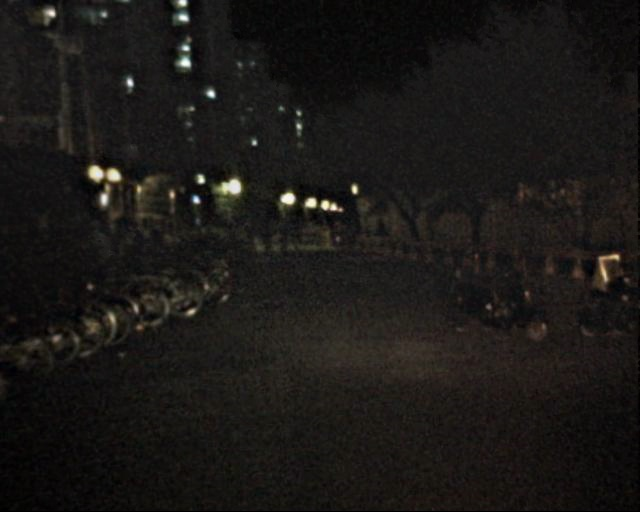person: (92, 222, 114, 275), (130, 223, 148, 267), (258, 218, 274, 257), (376, 221, 392, 260), (150, 222, 166, 260), (274, 219, 290, 257), (287, 218, 303, 242), (224, 221, 240, 241), (240, 220, 251, 248)
